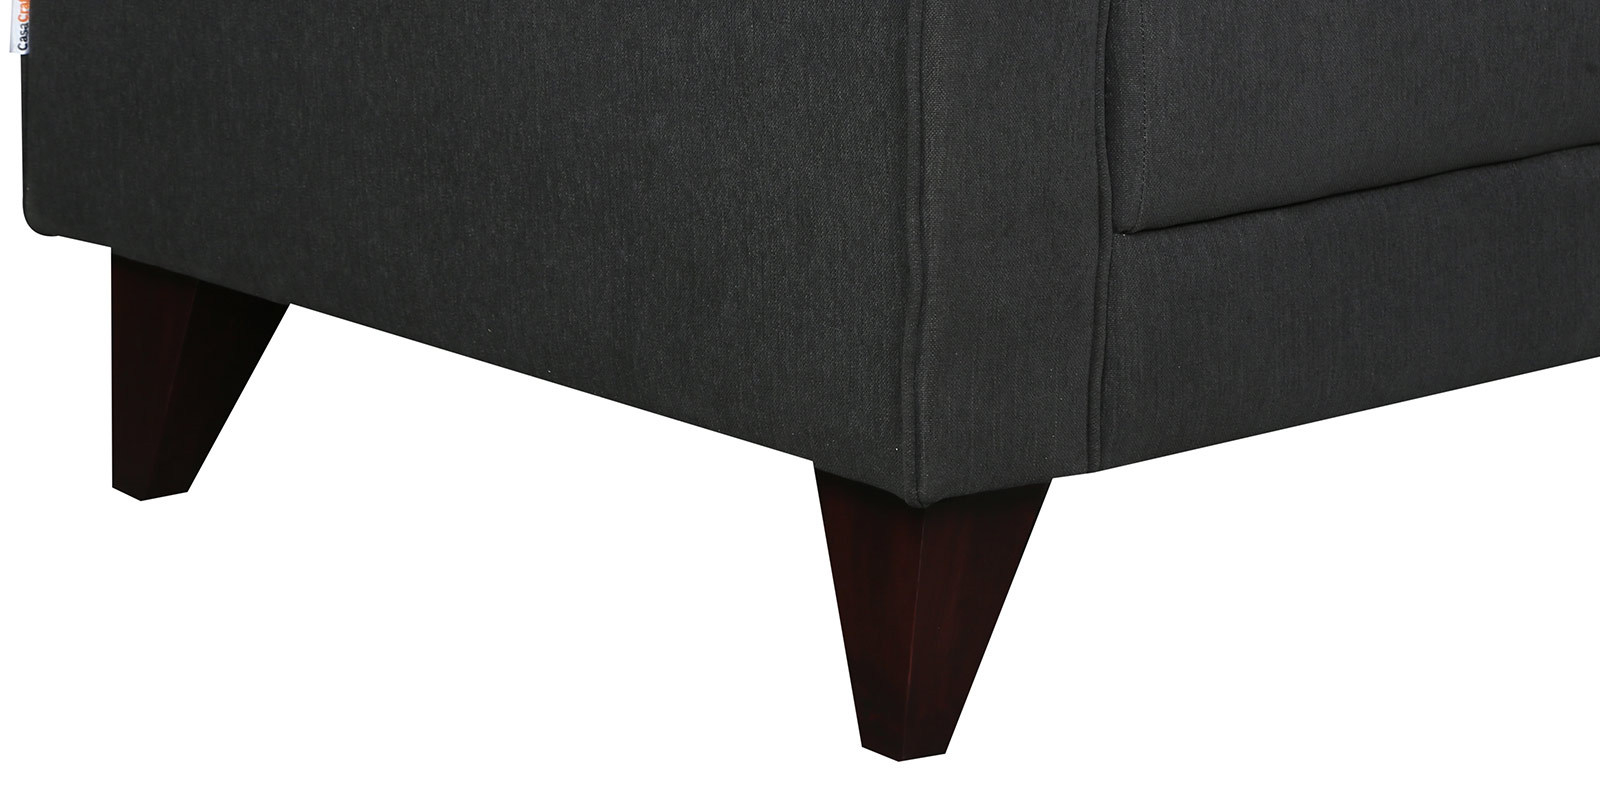Fuego Three Seater Sofa in Charcoal Grey Colour by CasaCraft: (20, 11, 1600, 792)
